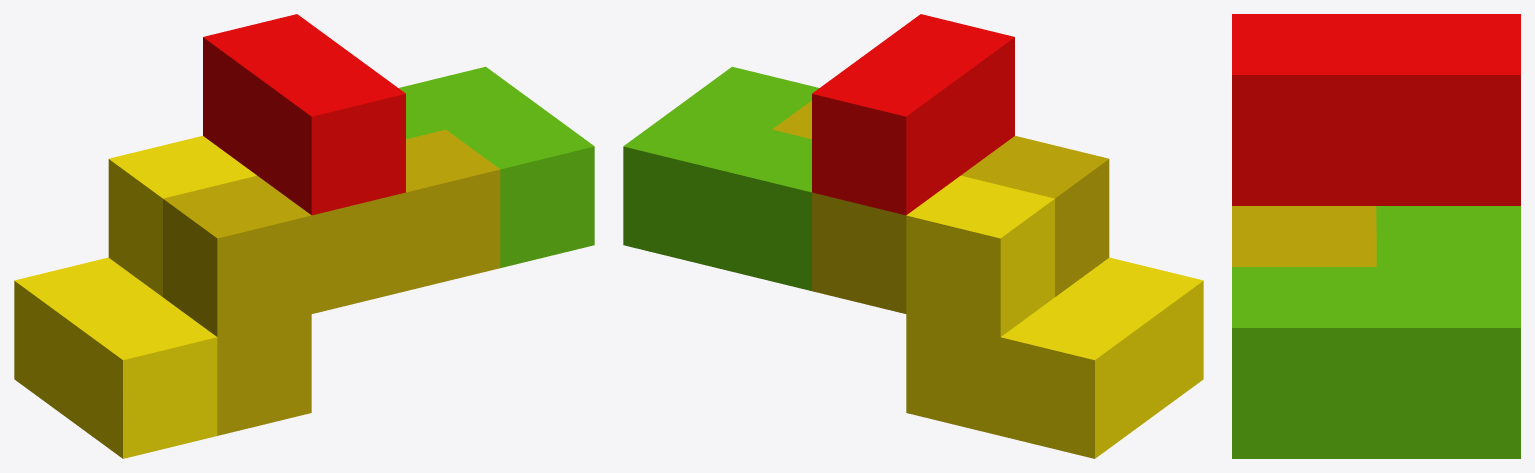
3 views of the same model, side by side, from view 1: azimuth 30°, elevation 25°; view 2: azimuth 150°, elevation 25°; view 3: azimuth 270°, elevation 25° (orthographic). The views are drawn at different scales.
Visible parts, largest first — view 1: mergedBlocks(Clone); view 2: mergedBlocks(Clone); view 3: mergedBlocks(Clone).
Part boxes in pixels (<box>): mergedBlocks(Clone): <box>14,14,594,458</box>; mergedBlocks(Clone): <box>623,14,1203,458</box>; mergedBlocks(Clone): <box>1232,14,1520,458</box>.
Size of the model in its own units: 5 by 3 by 2.
4 materials, 4 textured.
